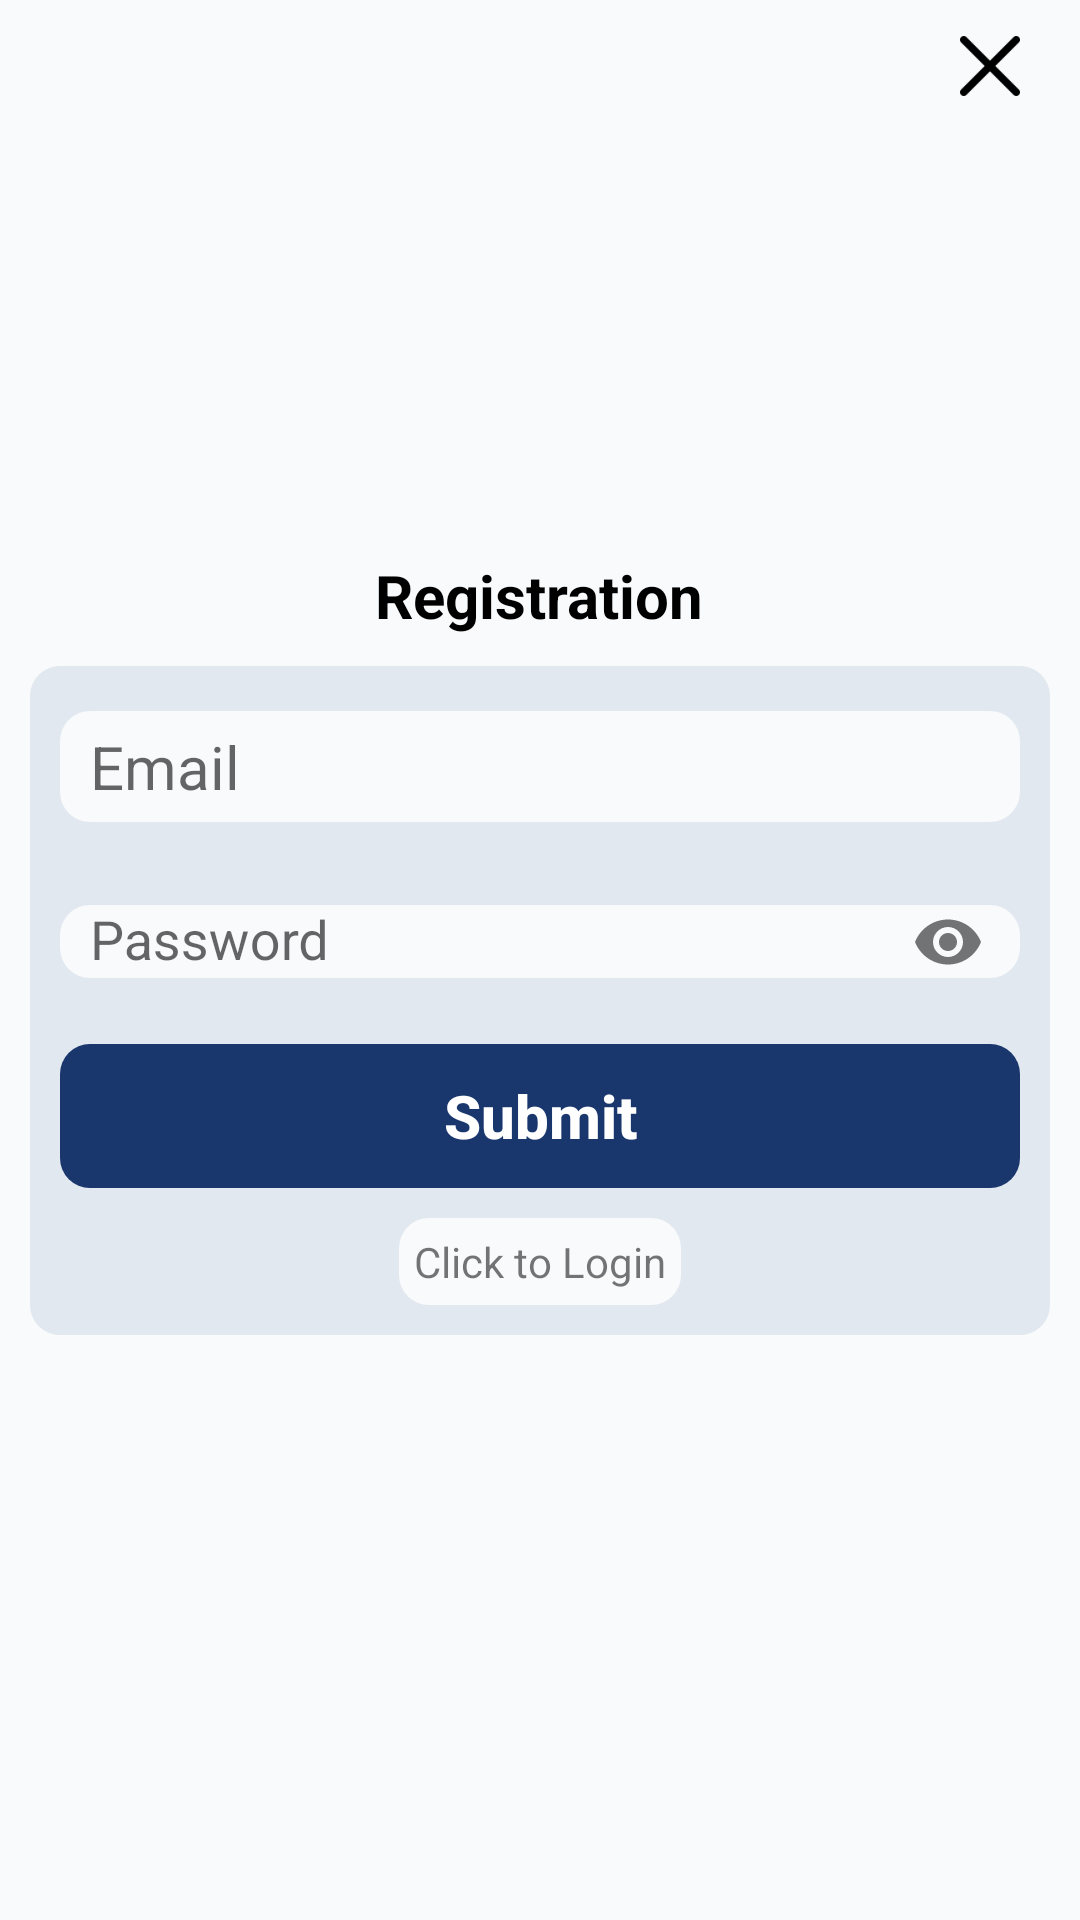

Where icons sit on this 1080 × 1920 app screen, as (x1, y1, x2, y2):
cross: (960, 36, 1020, 96)
